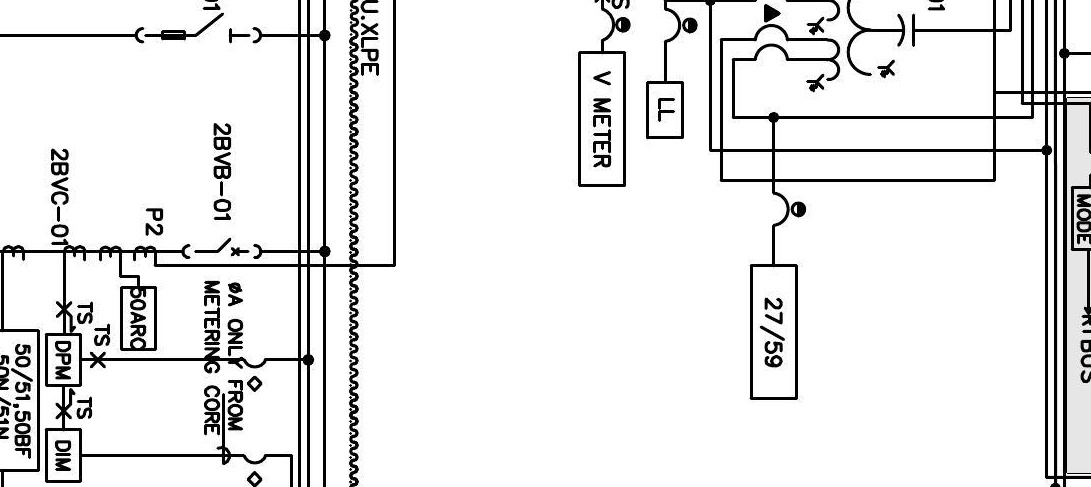22_breaker: (181, 237, 263, 260)
22_ds: (134, 12, 263, 44)
DIM: (44, 428, 82, 484)
DPM: (44, 332, 82, 388)
LL: (645, 80, 685, 140)
v_m_digital: (577, 50, 627, 188)
